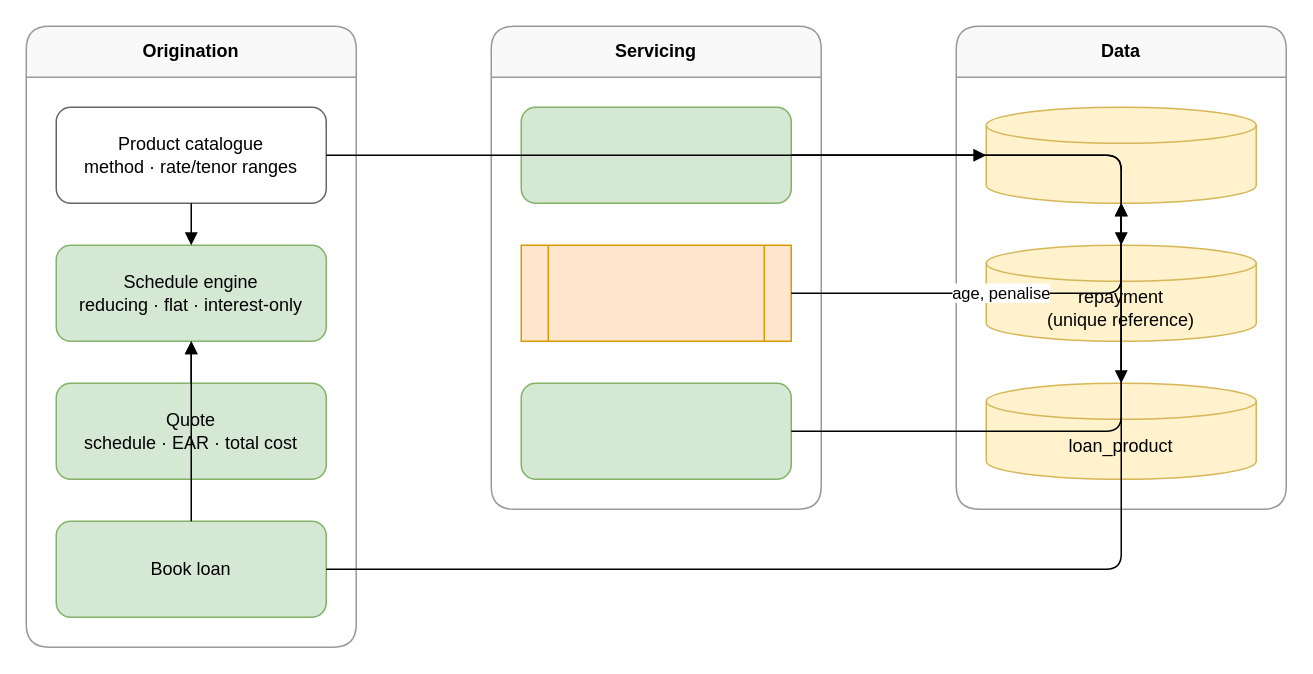
This 1313x674 diagram has some shape labels left out. Each missing label, with the centre of its shape:
"Arrears and penalties nightly" belongs at point (655, 292).
"Early payoff" belongs at point (655, 430).
"loan · instalment" belongs at point (1120, 154).
"Repayment allocation penalty → interest → principal" belongs at point (655, 154).
